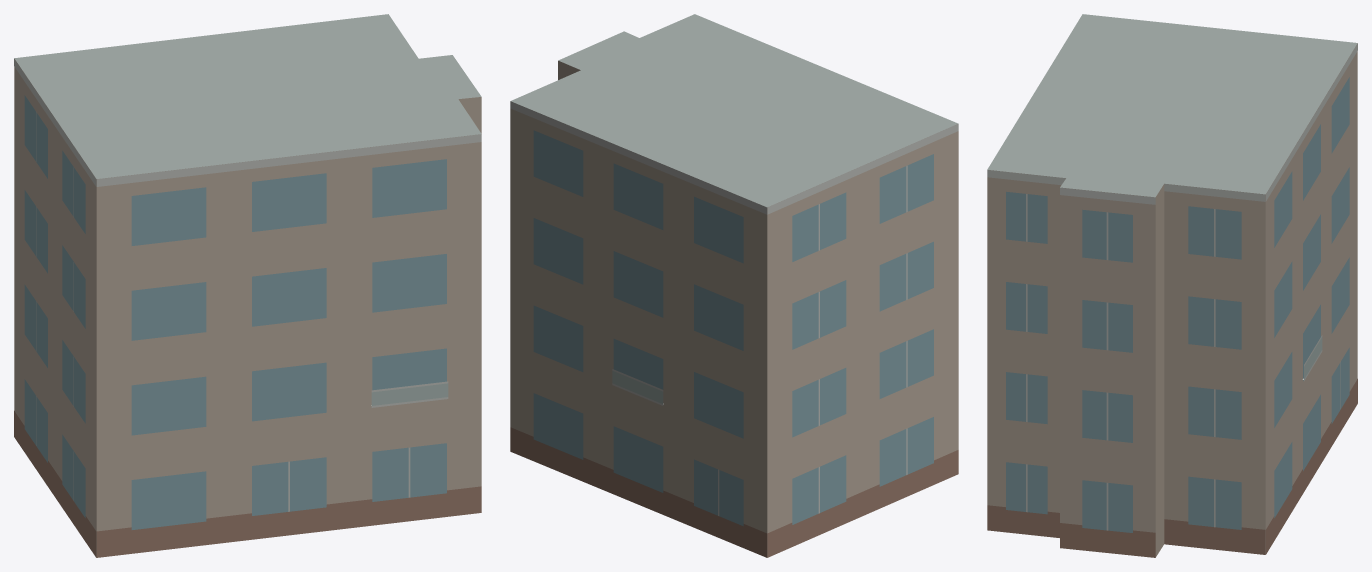
Rendered from survey-upis-32543052.glb.
The picture shows the model from 3 angles, left to right: view 1: azimuth 30°, elevation 25°; view 2: azimuth 150°, elevation 25°; view 3: azimuth 270°, elevation 25°; orthographic projection. The views are drawn at different scales.
Visible parts, largest first — view 1: survey-upis-32543052.tmp; view 2: survey-upis-32543052.tmp; view 3: survey-upis-32543052.tmp.
Part boxes in pixels (<box>): survey-upis-32543052.tmp: <box>14,14,481,557</box>; survey-upis-32543052.tmp: <box>510,14,958,557</box>; survey-upis-32543052.tmp: <box>987,14,1357,557</box>.
Size of the model in its own units: 12.71 by 11.65 by 10.86.
